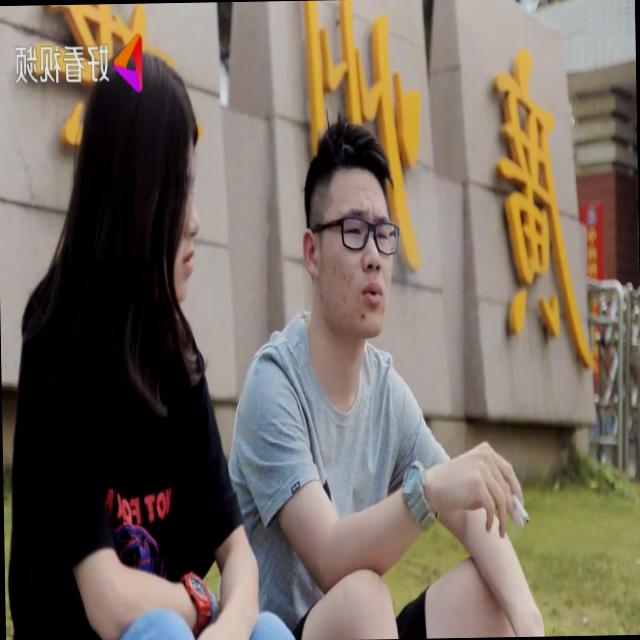smoke: (505, 482, 533, 528)
